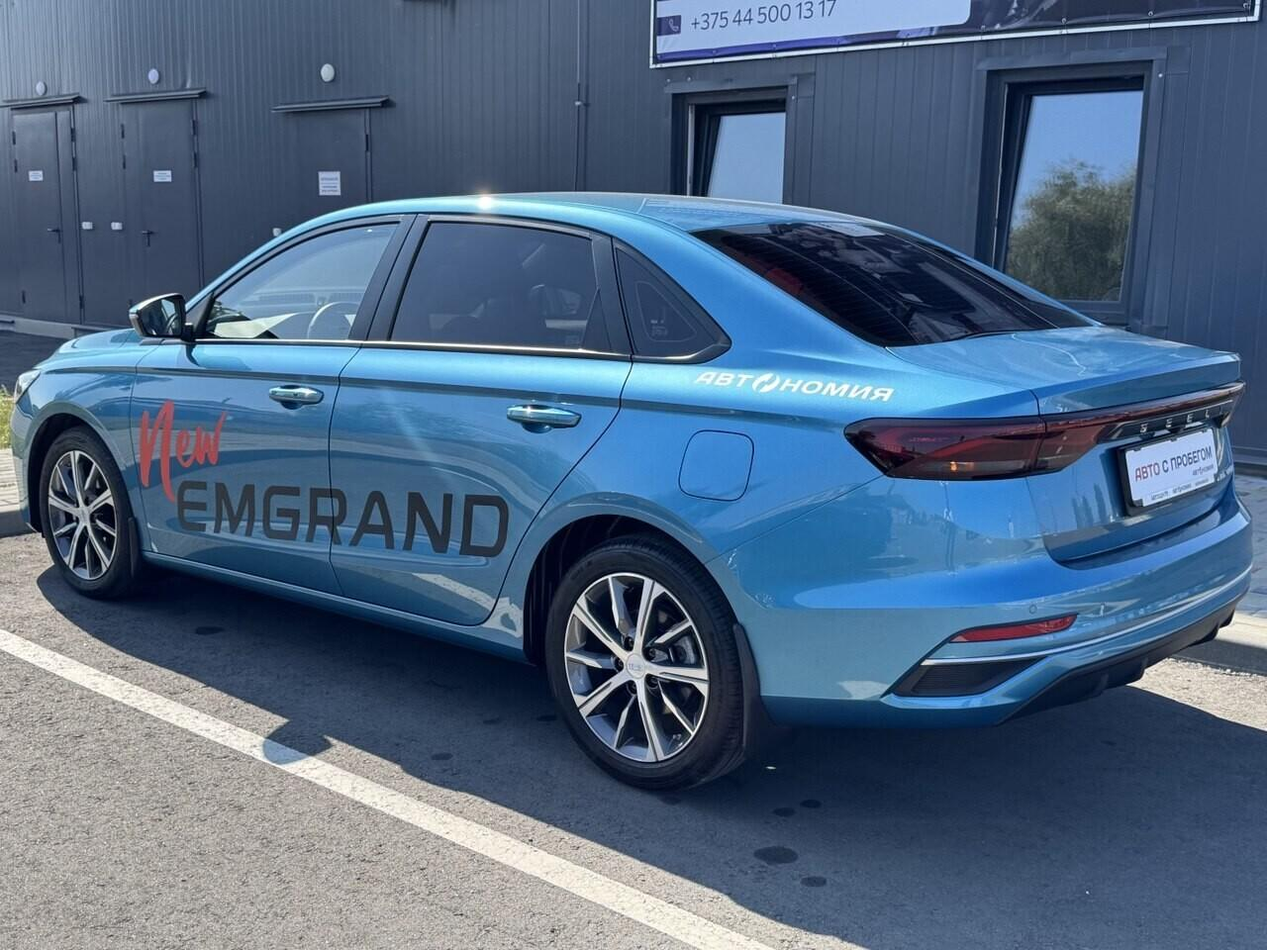Emgrand_2021: (9, 189, 1260, 790)
